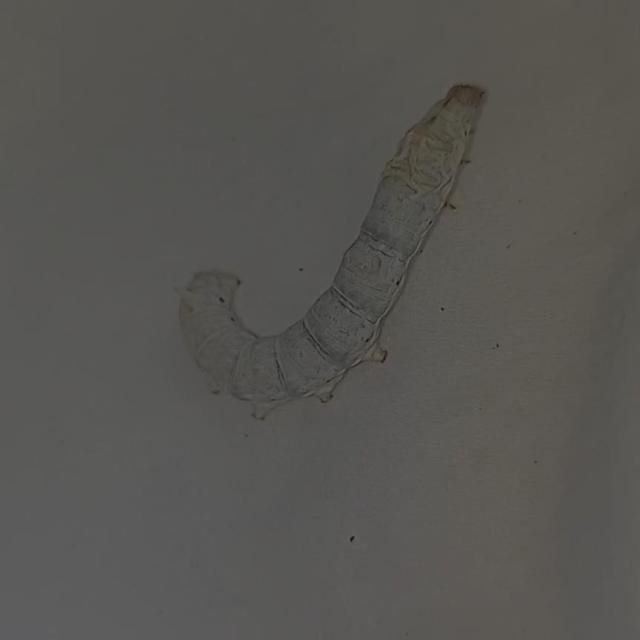Healthy: (163, 58, 500, 451)
